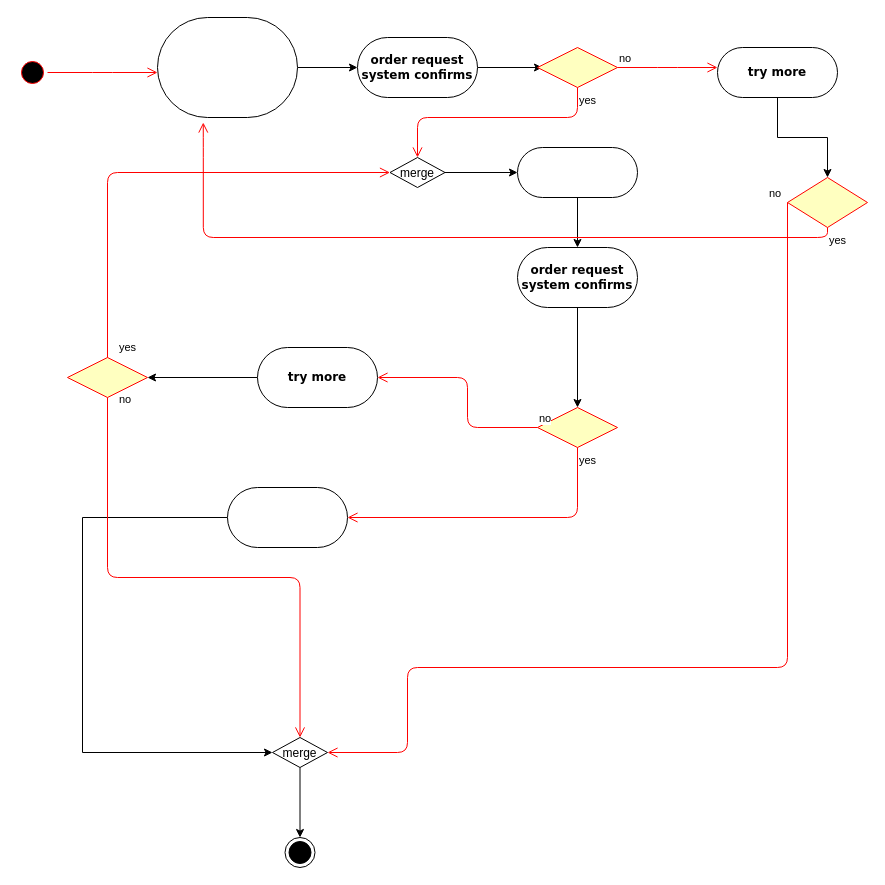
This 885x885 diagram has some shape labels left out. Here are the shapes that lost their labels. From the top down, the box of each, then its label:
(156, 16, 298, 118): customer sends a request to see the most installed program
(516, 146, 638, 198): enter the number of application you want to see
(226, 486, 348, 548): display data of program
